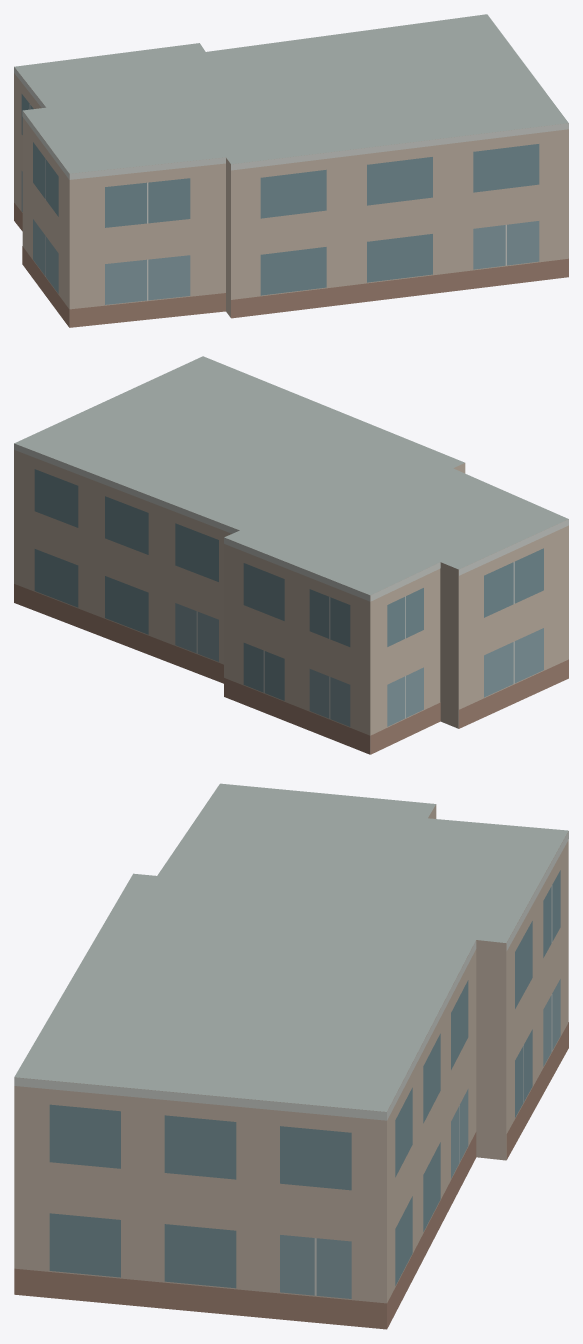
File: survey-upis-32913705.glb
The picture shows the model from 3 angles, top to bottom: view 1: azimuth 30°, elevation 25°; view 2: azimuth 150°, elevation 25°; view 3: azimuth 270°, elevation 25°; orthographic projection. The views are drawn at different scales.
Visible parts, largest first — view 1: survey-upis-32913705.tmp; view 2: survey-upis-32913705.tmp; view 3: survey-upis-32913705.tmp.
Boxes of the visible parts, left/top/right/bottom form: survey-upis-32913705.tmp: left=14, top=14, right=568, bottom=327; survey-upis-32913705.tmp: left=14, top=356, right=568, bottom=754; survey-upis-32913705.tmp: left=14, top=783, right=568, bottom=1329.
Size of the model in its own units: 19.78 by 6.1 by 14.12.
